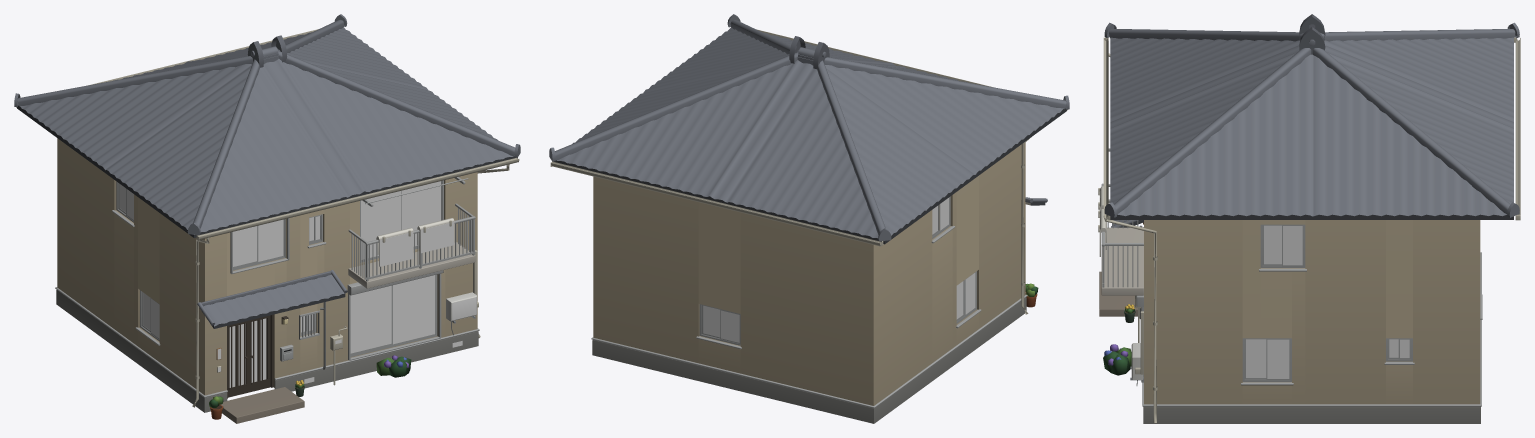
Rendered from HouseTileKM.fbx.
The picture shows the model from 3 angles, left to right: view 1: azimuth 30°, elevation 25°; view 2: azimuth 150°, elevation 25°; view 3: azimuth 270°, elevation 25°; orthographic projection. The views are drawn at different scales.
Visible parts, largest first — view 1: HouseTileKM; view 2: HouseTileKM; view 3: HouseTileKM.
Part boxes in pixels (x1=…): HouseTileKM: x1=14, y1=14, x2=520, y2=423; HouseTileKM: x1=549, y1=14, x2=1069, y2=423; HouseTileKM: x1=1098, y1=14, x2=1520, y2=423.
Size of the model in its own units: 9.77 by 8.08 by 9.43.
